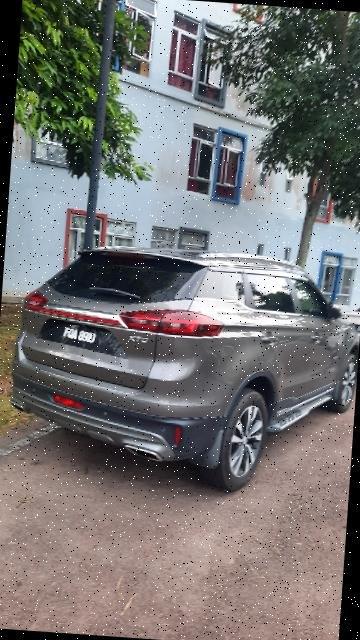License_Plate: (38, 310, 140, 363)
car: (1, 239, 360, 503)
